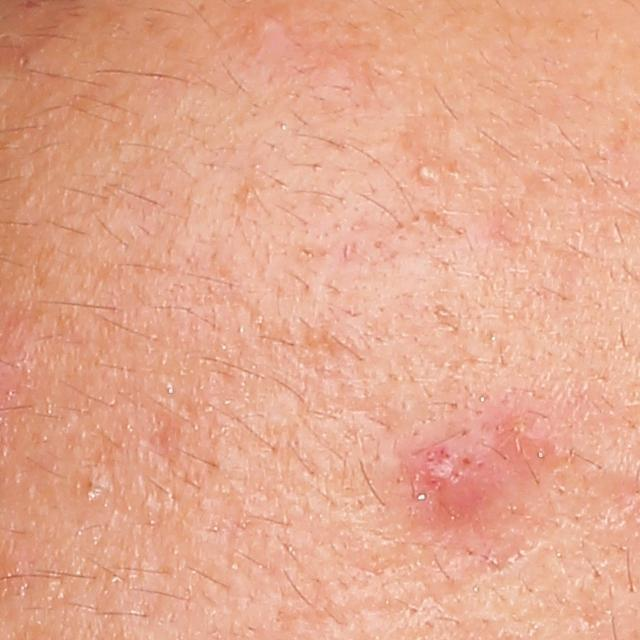comedo: (411, 162, 439, 187)
papule: (412, 433, 512, 514), (491, 409, 551, 464), (242, 8, 294, 50)
